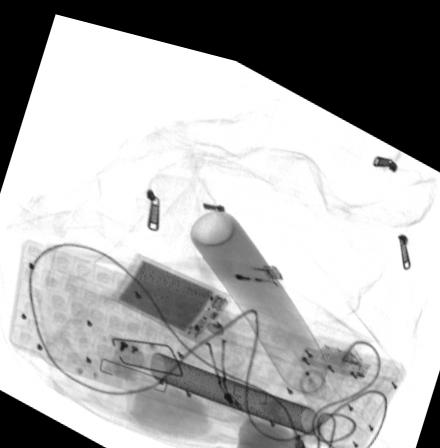Lighter: (194, 244, 285, 272)
Powerbank: (107, 243, 233, 334)
Sprayer: (189, 198, 329, 384)
